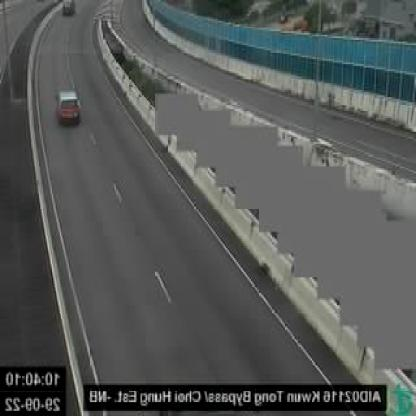Car: (56, 83, 84, 125), (65, 0, 76, 17)
